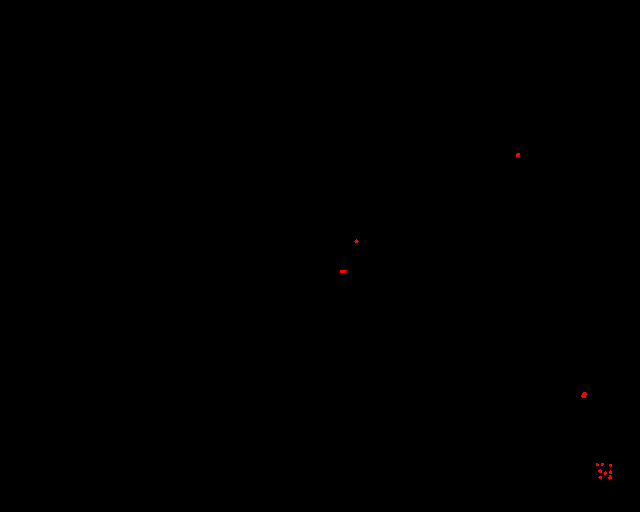Target: (581, 392, 587, 398), (340, 270, 347, 273), (354, 239, 359, 243), (608, 475, 612, 480), (516, 153, 520, 157), (598, 469, 602, 473), (603, 471, 607, 475), (609, 470, 612, 474), (598, 476, 602, 479), (596, 463, 599, 466), (601, 463, 604, 466), (609, 464, 612, 467)
